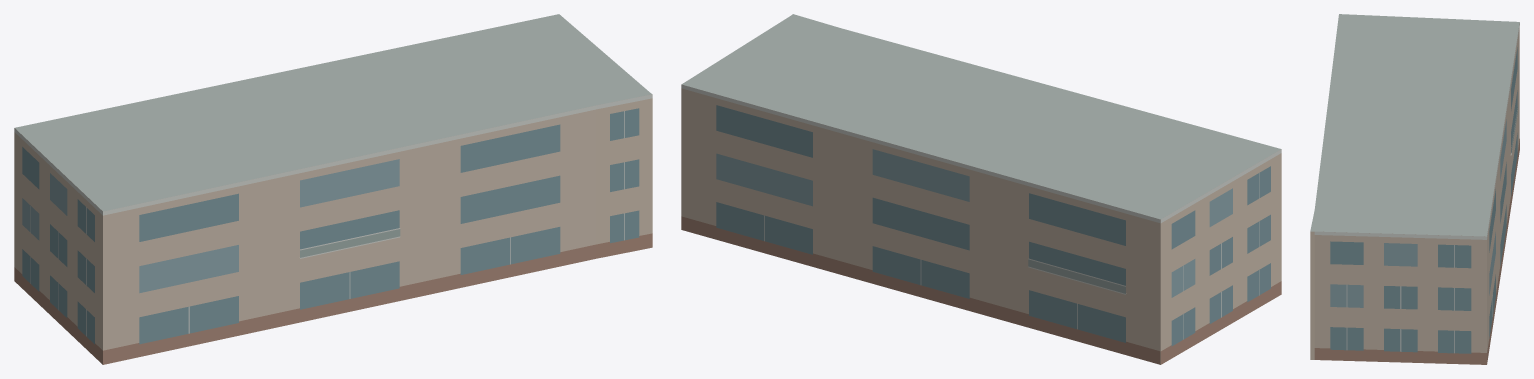
File: survey-upis-32680422.glb
3 renders of one model, left to right at view 1: azimuth 30°, elevation 25°; view 2: azimuth 150°, elevation 25°; view 3: azimuth 270°, elevation 25°, orthographic. The views are drawn at different scales.
Parts seen in each view (by area): view 1: survey-upis-32680422.tmp; view 2: survey-upis-32680422.tmp; view 3: survey-upis-32680422.tmp.
Part boxes in pixels (left/top/right/bottom): survey-upis-32680422.tmp: left=14, top=14, right=652, bottom=364; survey-upis-32680422.tmp: left=681, top=14, right=1281, bottom=364; survey-upis-32680422.tmp: left=1310, top=14, right=1519, bottom=364.
Size of the model in its own units: 34.01 by 9.15 by 13.54.
